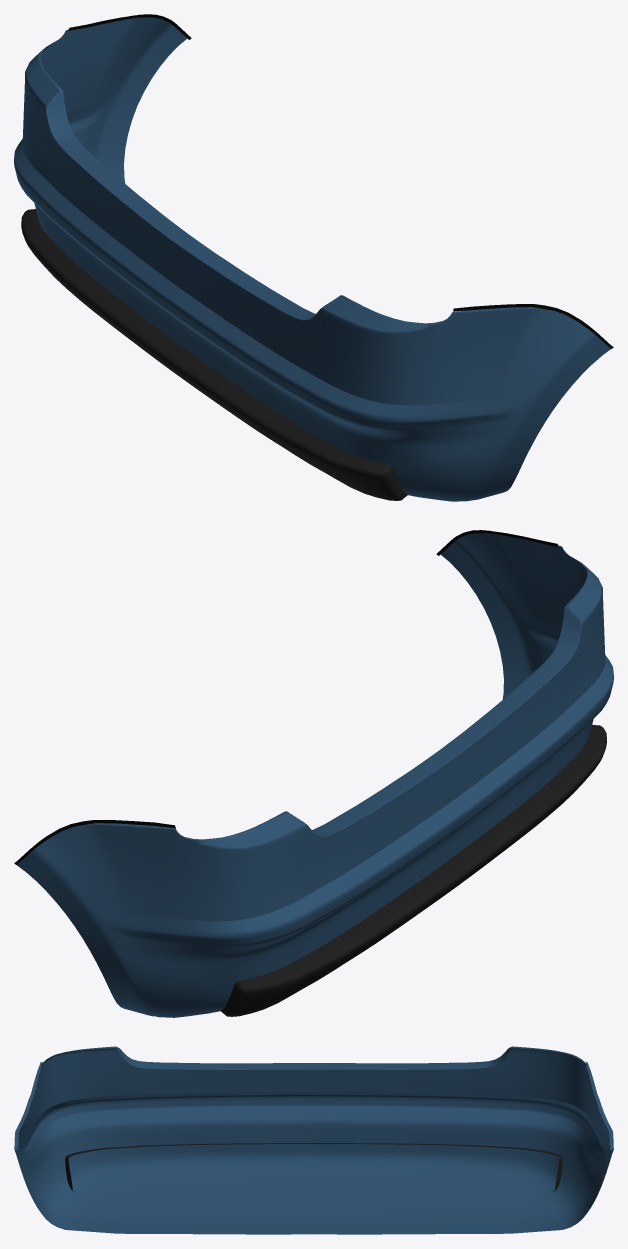
The picture shows the model from 3 angles, top to bottom: view 1: azimuth 30°, elevation 25°; view 2: azimuth 150°, elevation 25°; view 3: azimuth 270°, elevation 25°; orthographic projection. The views are drawn at different scales.
Visible parts, largest first — view 1: Y191_13_561G_C_1_DaS_Y191_13_561G_C, Y191_13_561G_C_Y191_13_561G_C_2_D, Y191_13_561G_C_1_DaS_Y191_13_561G_C_E, Y191_13_561G_C_Y191_13_561G_C_3_D; view 2: Y191_13_561G_C_1_DaS_Y191_13_561G_C, Y191_13_561G_C_Y191_13_561G_C_2_D, Y191_13_561G_C_1_DaS_Y191_13_561G_C_E, Y191_13_561G_C_Y191_13_561G_C_3_D; view 3: Y191_13_561G_C_1_DaS_Y191_13_561G_C, Y191_13_561G_C_1_DaS_Y191_13_561G_C_E, Y191_13_561G_C_Y191_13_561G_C_2_D.
Boxes of the visible parts, left/top/right/bottom form: Y191_13_561G_C_1_DaS_Y191_13_561G_C: left=14, top=17, right=610, bottom=501; Y191_13_561G_C_Y191_13_561G_C_2_D: left=21, top=209, right=407, bottom=500; Y191_13_561G_C_1_DaS_Y191_13_561G_C_E: left=14, top=15, right=580, bottom=436; Y191_13_561G_C_Y191_13_561G_C_3_D: left=68, top=14, right=613, bottom=348; Y191_13_561G_C_1_DaS_Y191_13_561G_C: left=17, top=533, right=613, bottom=1017; Y191_13_561G_C_Y191_13_561G_C_2_D: left=220, top=724, right=606, bottom=1016; Y191_13_561G_C_1_DaS_Y191_13_561G_C_E: left=47, top=533, right=613, bottom=953; Y191_13_561G_C_Y191_13_561G_C_3_D: left=14, top=530, right=558, bottom=864; Y191_13_561G_C_1_DaS_Y191_13_561G_C: left=14, top=1047, right=613, bottom=1234; Y191_13_561G_C_1_DaS_Y191_13_561G_C_E: left=14, top=1046, right=613, bottom=1160; Y191_13_561G_C_Y191_13_561G_C_2_D: left=65, top=1143, right=562, bottom=1191.
Bounding box in the file's own units: 57.12 × 48.52 × 173.
